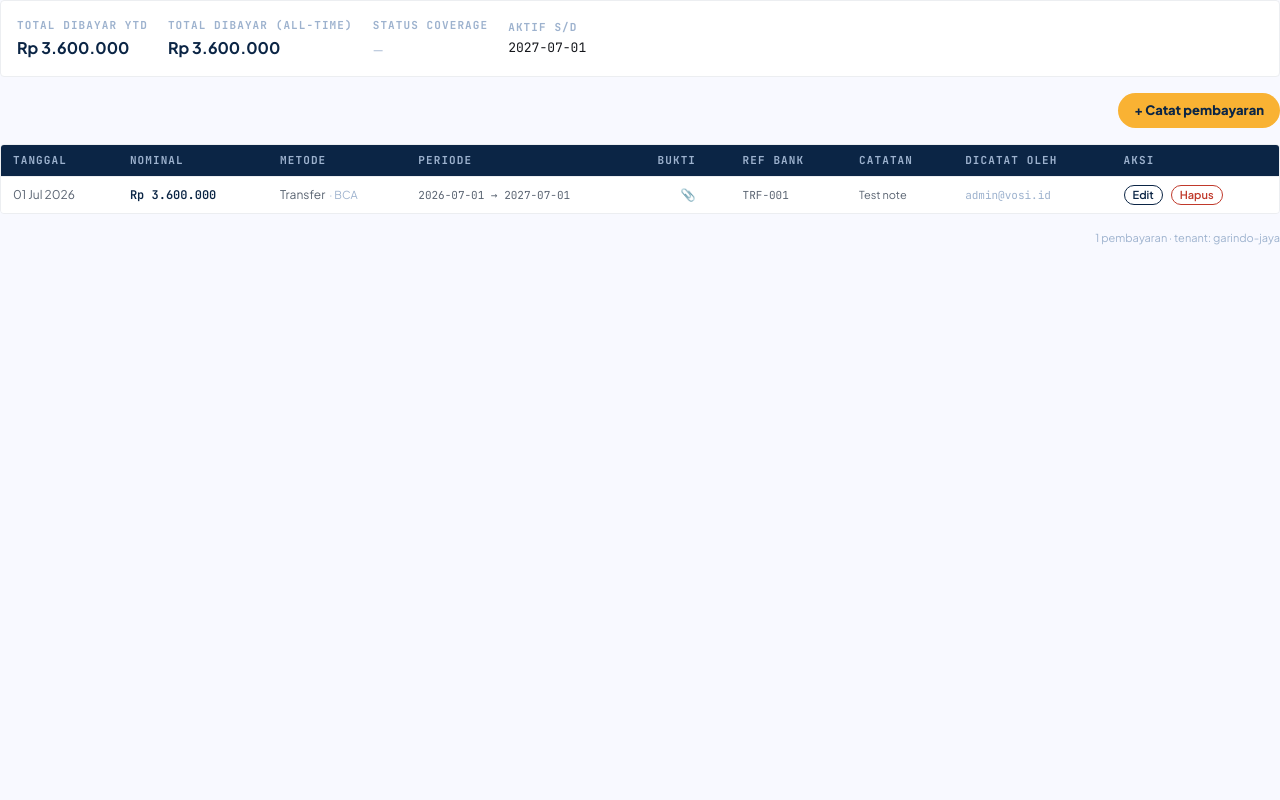
Test case: PembayaranTab › opens RecordPaymentModal in edit mode when Edit clicked
Click the button "Edit": click(1143, 195) [1124,185,1163,205]
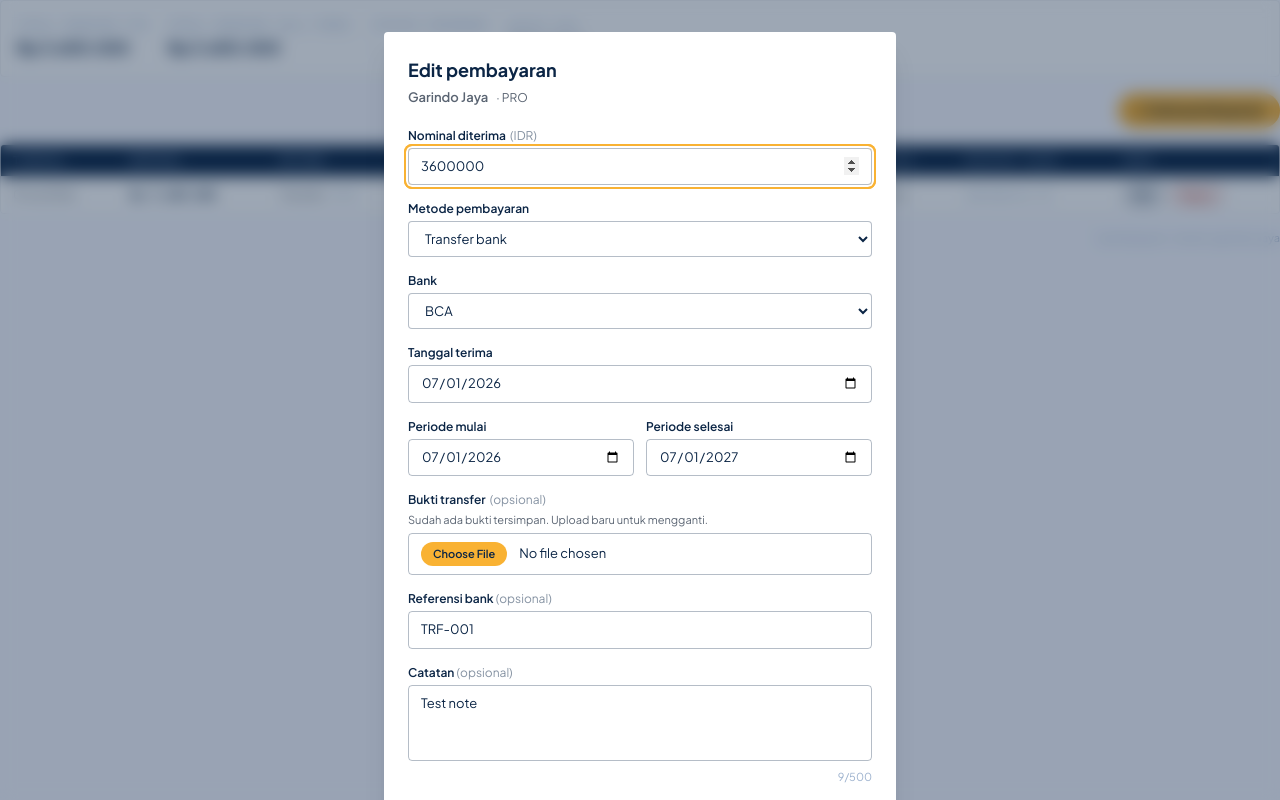
Now the dialog is shown
Now the heading "Edit pembayaran" is shown, box [408,58,557,81]
